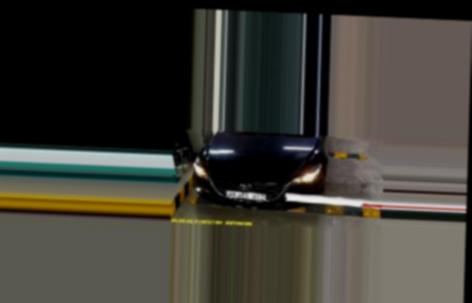License_Plate: (223, 189, 269, 200)
